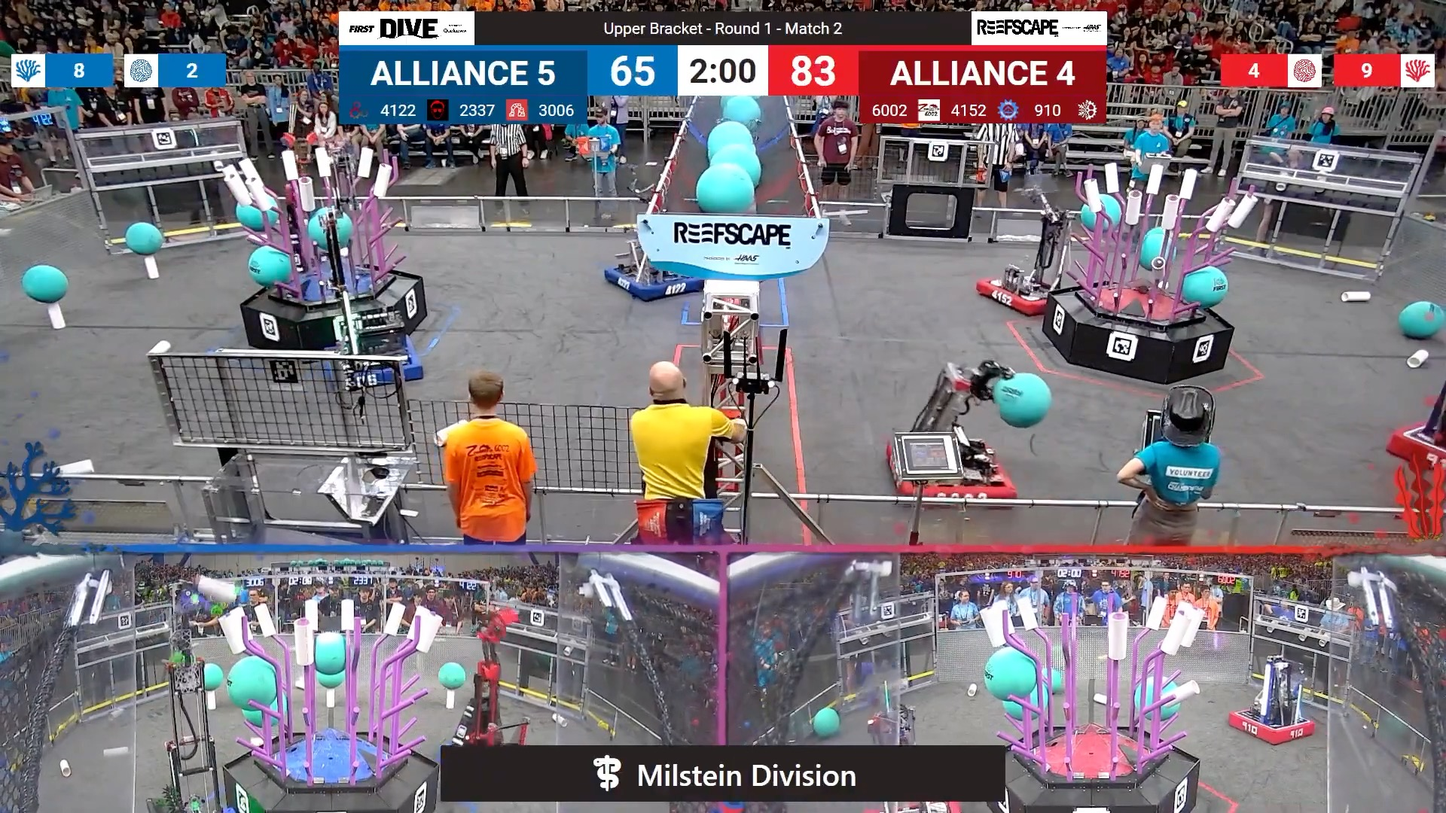bumpers: (880, 434, 1020, 510), (316, 339, 427, 390), (974, 268, 1067, 318), (1222, 703, 1325, 747), (596, 263, 706, 303), (1385, 406, 1444, 478)
